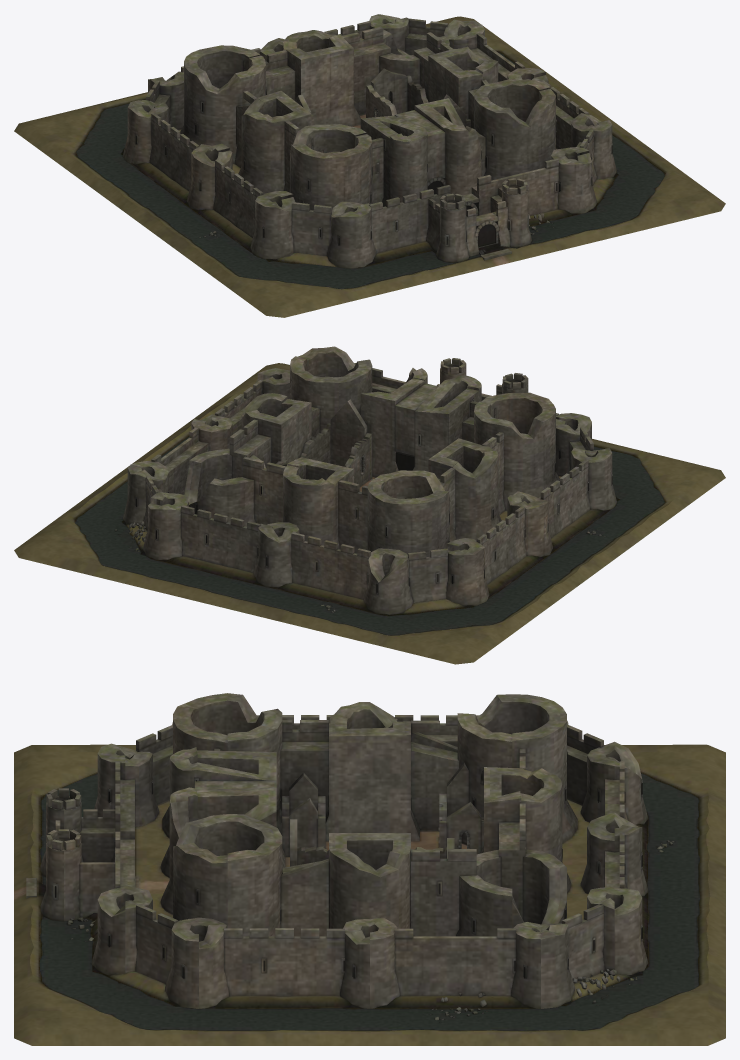
The model's file is concentric_castle_ruin.glb.
3 renders of one model, top to bottom at view 1: azimuth 30°, elevation 25°; view 2: azimuth 150°, elevation 25°; view 3: azimuth 270°, elevation 25°, orthographic. The views are drawn at different scales.
Parts seen in each view (by area): view 1: concentric_castle_ruin_LOD0; view 2: concentric_castle_ruin_LOD0; view 3: concentric_castle_ruin_LOD0.
Part boxes in pixels (x1,y1,x2,y2): concentric_castle_ruin_LOD0: (14,14,725,317); concentric_castle_ruin_LOD0: (14,346,725,664); concentric_castle_ruin_LOD0: (14,693,725,1045).
Size of what is drawn, in the model's own units: 80 by 14.92 by 80.
Materials: 1 (1 with a texture image).
